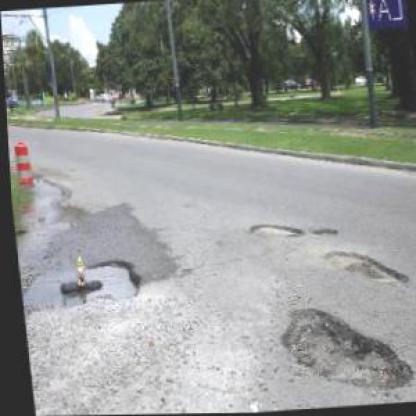pothole: (272, 300, 412, 400), (16, 252, 141, 315), (319, 244, 406, 290), (245, 221, 301, 237), (309, 226, 336, 237)
